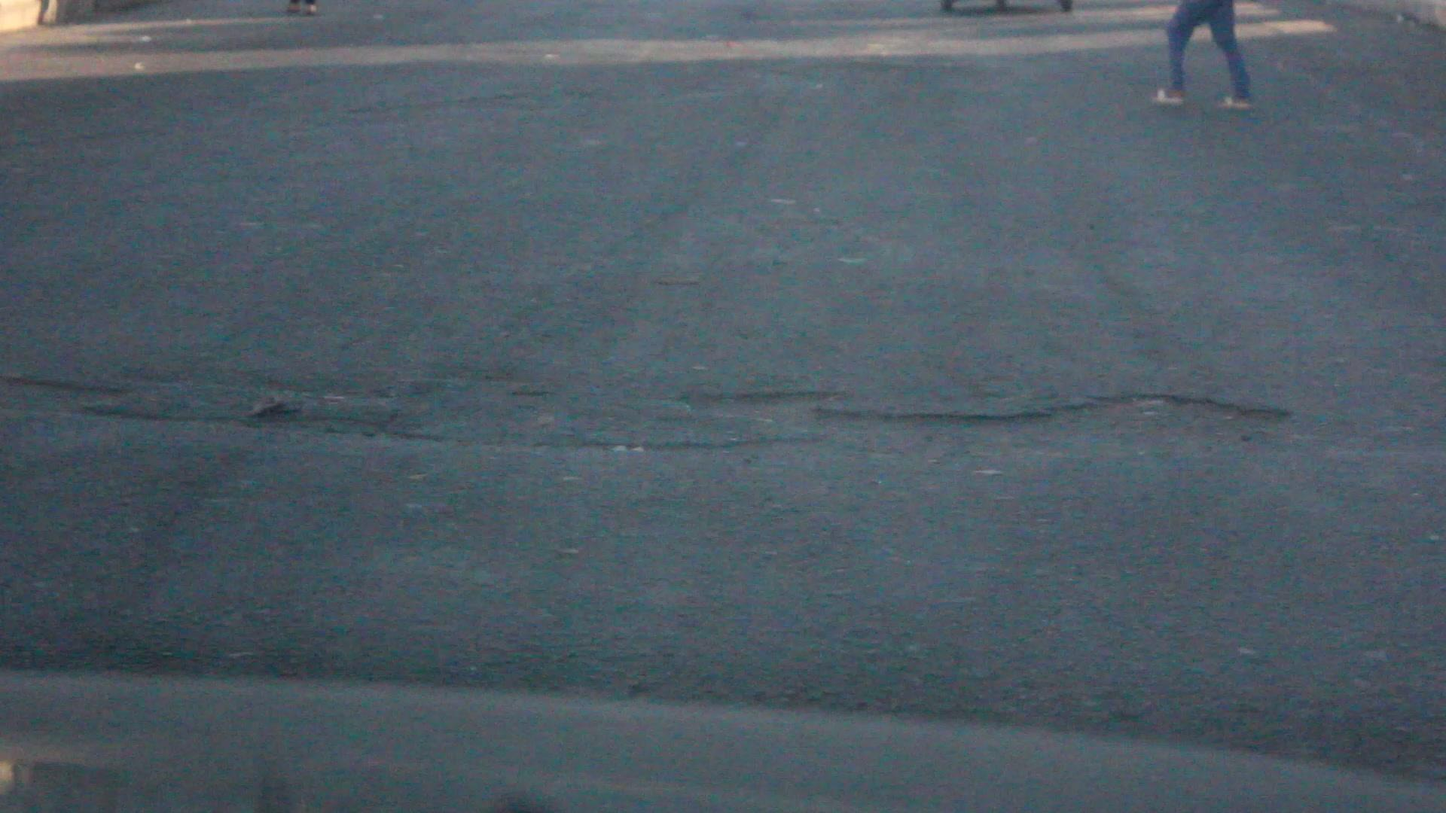Bump: (0, 423, 1446, 708)
Pothole: (661, 378, 1350, 470), (34, 348, 482, 476)
